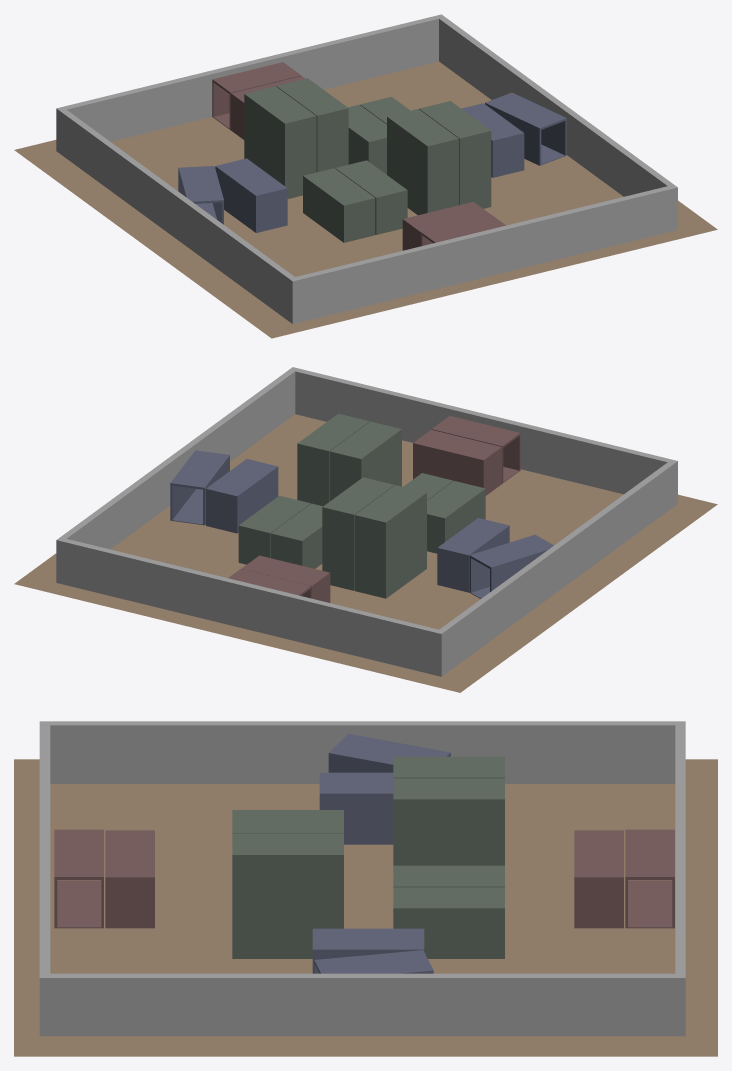
File: Shipment_COD4.fbx
3 renders of one model, top to bottom at view 1: azimuth 30°, elevation 25°; view 2: azimuth 150°, elevation 25°; view 3: azimuth 270°, elevation 25°, orthographic. The views are drawn at different scales.
Parts seen in each view (by area): view 1: pCube19, pPlane1, pCube21, pCube23, pCube11, pCube16, pCube25, pCube22, pCube20, pCube12, pCube15, pCube4 (+10 smaller); view 2: pCube19, pPlane1, pCube23, pCube7, pCube15, pCube21, pCube16, pCube25, pCube11, pCube1, pCube26, pCube22 (+9 smaller); view 3: pPlane1, pCube19, pCube20, pCube22, pCube3, pCube8, pCube24, pCube7, pCube10, pCube14, pCube16, pCube15 (+6 smaller).
Boxes of the visible parts, <box> form: pCube19: <box>56,14,677,323</box>; pPlane1: <box>14,61,717,338</box>; pCube21: <box>387,109,459,184</box>; pCube23: <box>244,86,316,162</box>; pCube11: <box>303,168,375,242</box>; pCube16: <box>215,158,287,232</box>; pCube25: <box>485,92,566,165</box>; pCube22: <box>276,78,348,154</box>; pCube20: <box>419,101,491,177</box>; pCube12: <box>335,160,407,234</box>; pCube15: <box>461,103,524,177</box>; pCube4: <box>348,104,386,174</box>; pCube19: <box>56,367,677,676</box>; pPlane1: <box>14,414,717,692</box>; pCube23: <box>354,485,426,561</box>; pCube7: <box>413,429,501,495</box>; pCube15: <box>206,459,278,533</box>; pCube21: <box>329,421,401,492</box>; pCube16: <box>437,518,509,592</box>; pCube25: <box>170,450,229,525</box>; pCube11: <box>427,481,485,553</box>; pCube1: <box>354,532,426,598</box>; pCube26: <box>469,534,553,598</box>; pCube22: <box>322,477,394,553</box>; pPlane1: <box>14,759,717,1056</box>; pCube19: <box>39,721,685,1036</box>; pCube20: <box>232,834,343,908</box>; pCube22: <box>393,778,504,852</box>; pCube3: <box>393,887,504,958</box>; pCube8: <box>54,829,103,928</box>; pCube24: <box>625,829,674,928</box>; pCube7: <box>105,830,154,928</box>; pCube10: <box>574,830,623,928</box>; pCube14: <box>232,908,343,958</box>; pCube16: <box>319,772,393,844</box>; pCube15: <box>312,928,424,973</box>.
Bounding box in the file's own units: 28.43 × 4.75 × 28.43.
